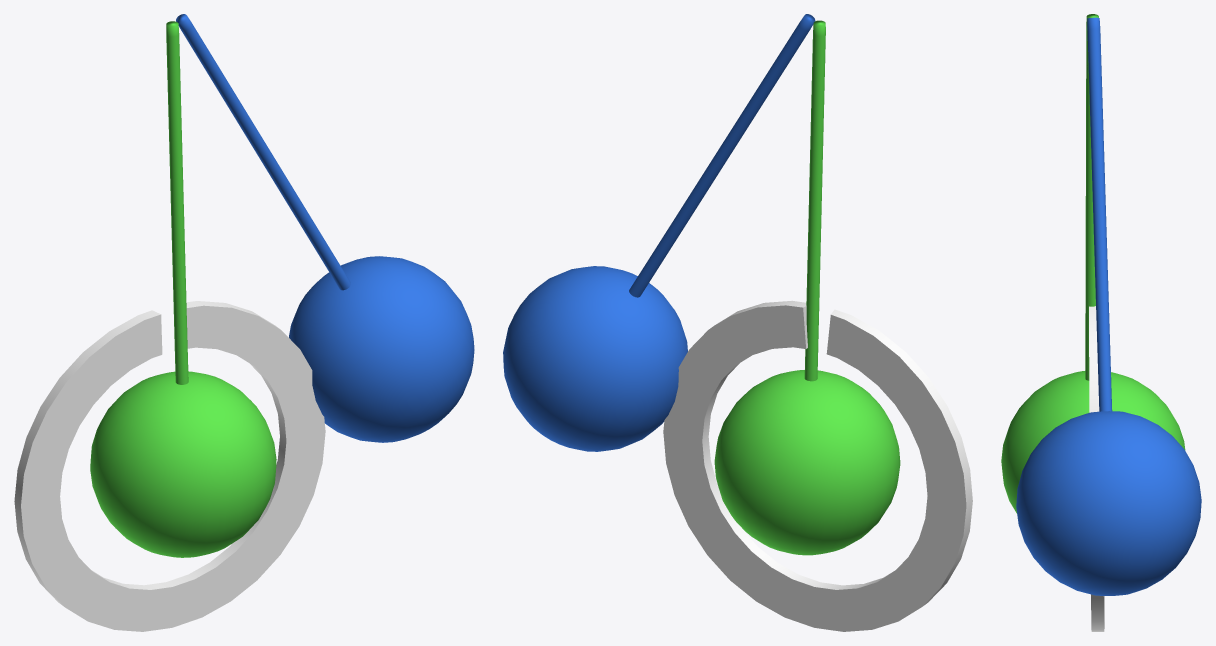
The picture shows the model from 3 angles, left to right: view 1: azimuth 30°, elevation 25°; view 2: azimuth 150°, elevation 25°; view 3: azimuth 270°, elevation 25°; orthographic projection.
Visible parts, largest first — view 1: Circle, Cylinder, Cylinder.001; view 2: Circle, Cylinder, Cylinder.001; view 3: Cylinder.001, Cylinder, Circle.
Boxes of the visible parts, bbox=[...] form: Circle: bbox=[14, 301, 325, 631]; Cylinder: bbox=[90, 21, 276, 557]; Cylinder.001: bbox=[176, 14, 474, 442]; Circle: bbox=[663, 300, 972, 631]; Cylinder: bbox=[714, 20, 900, 555]; Cylinder.001: bbox=[503, 14, 815, 451]; Cylinder.001: bbox=[1016, 17, 1201, 595]; Cylinder: bbox=[1001, 14, 1185, 513]; Circle: bbox=[1089, 306, 1104, 631].
Size of what is drawn, in the model's own units: 5.56 by 7.19 by 2.16.
